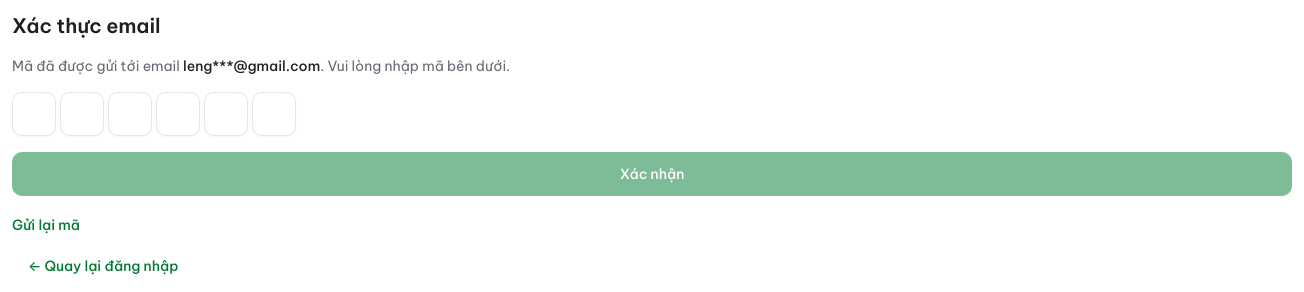
Scenario: EmailOtpStep › shows a rejected state with the API message
This screenshot has width=1304, height=292.
Type "4" into the field named "Chữ số 1 trong mã OTP". click: (34, 114)
box: [12, 92, 56, 136]
Type "8" into the field named "Chữ số 2 trong mã OTP". click: (82, 114)
box: [60, 92, 104, 136]
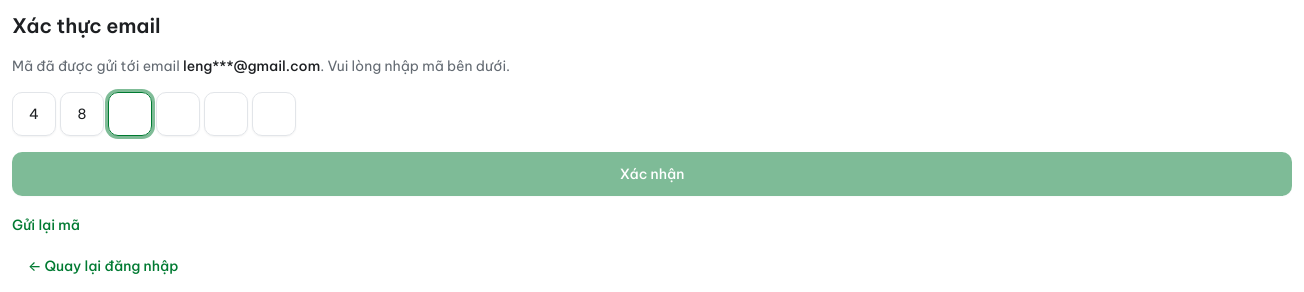
Type "2" into the field named "Chữ số 3 trong mã OTP". click: (130, 114)
box: [108, 92, 152, 136]
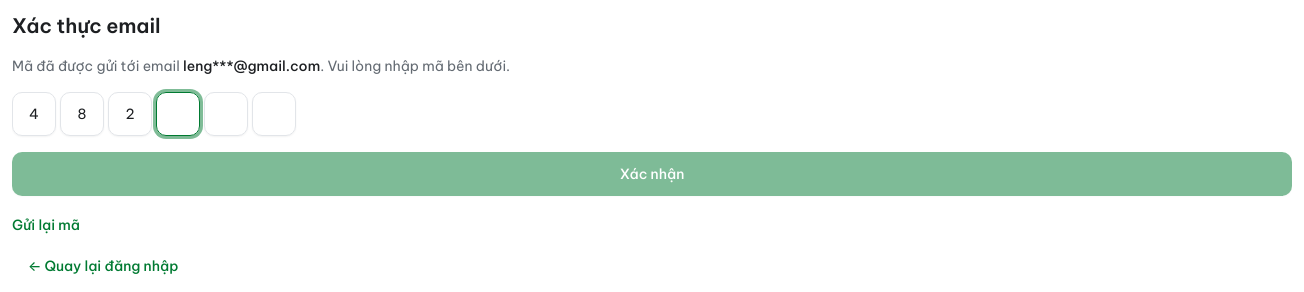
Type "9" into the field named "Chữ số 4 trong mã OTP". click: (178, 114)
box: [156, 92, 200, 136]
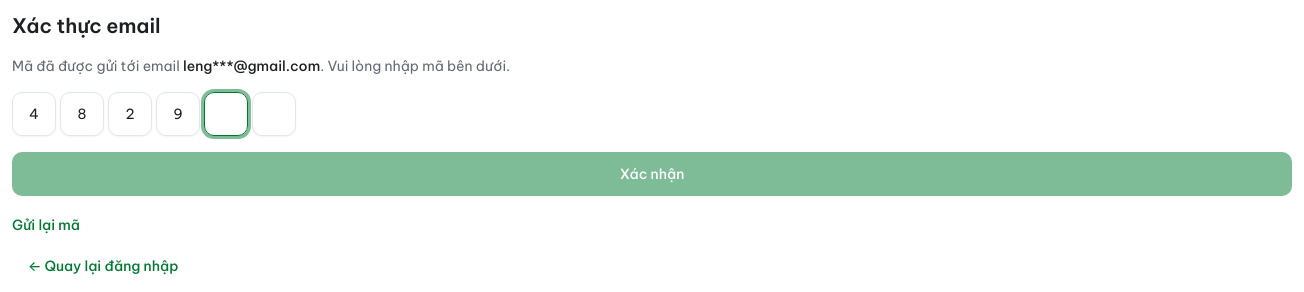
Type "1" into the field named "Chữ số 5 trong mã OTP". click: (226, 114)
box: [204, 92, 248, 136]
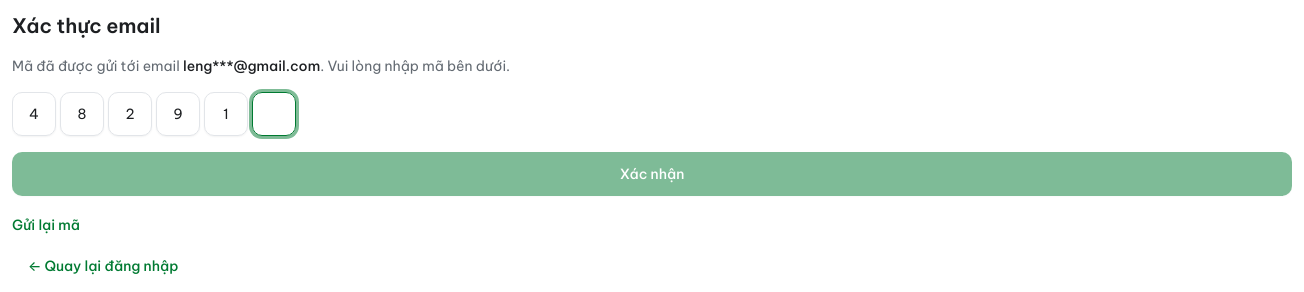
Type "3" into the field named "Chữ số 6 trong mã OTP". click: (274, 114)
box: [252, 92, 296, 136]
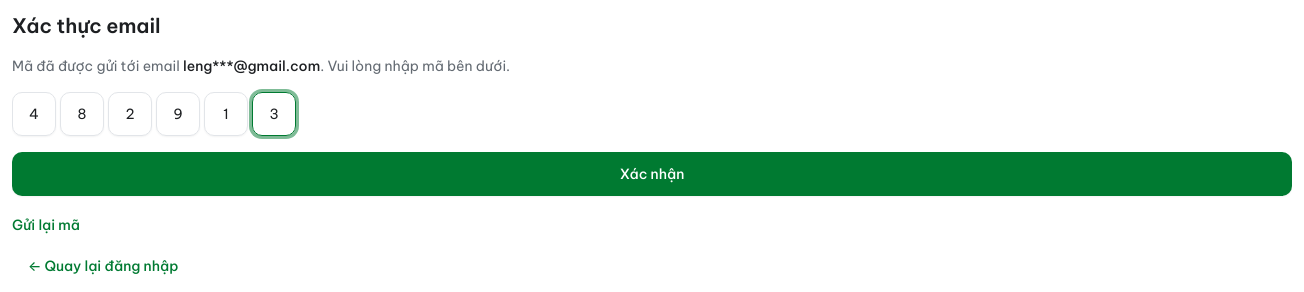
Click the button "Xác nhận". click: (652, 174)
box: [12, 152, 1292, 196]
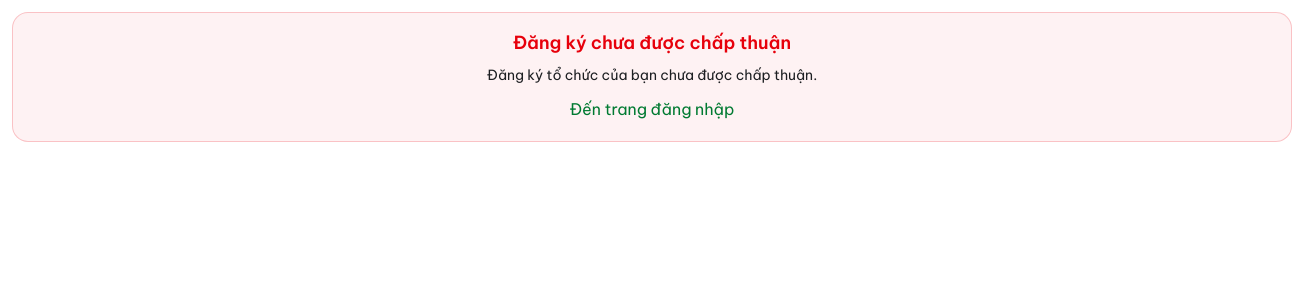
Now the text "Đăng ký tổ chức của bạn chưa được chấp thuận." is shown, box [487, 66, 817, 84]
